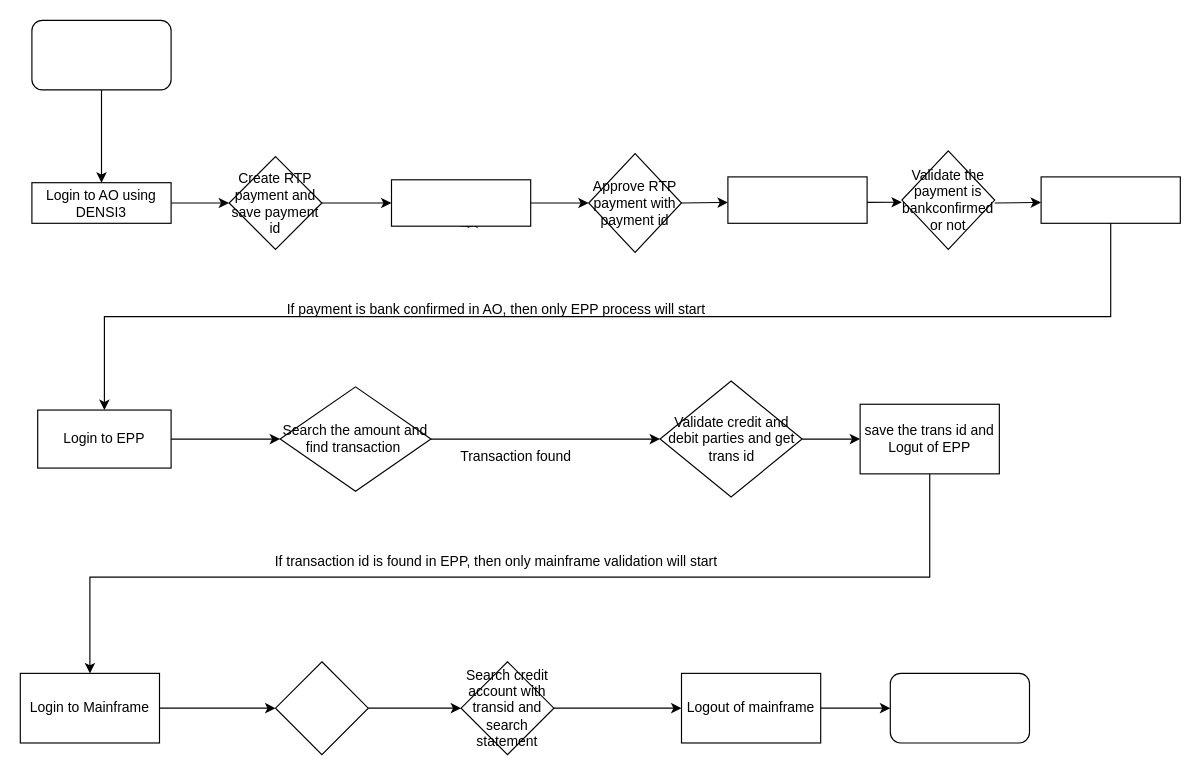
Some shapes in this 1201 by 775 pixel diagram are drawn without their labels. The shapes that lost their labels are listed below. From the top down, each one's box as (x1, y1, x2, y2) in pixels, then its label:
(31, 19, 171, 90): Start
(390, 179, 531, 226): Logout and login to AO Using DENSI1
(727, 176, 867, 223): Logout and login to AO Using DENSI3
(1040, 176, 1180, 223): Logout of AO
(274, 661, 368, 755): Search debit account with transid and search statement
(889, 672, 1030, 743): Finish
